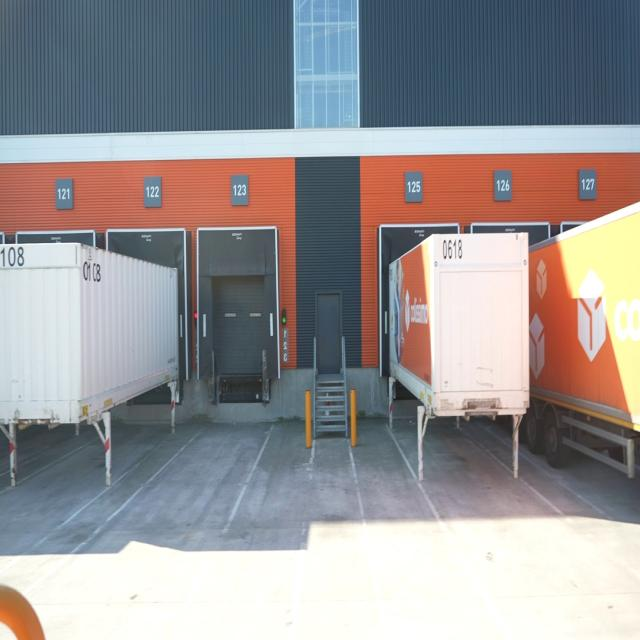Code: (438, 231, 464, 265)
